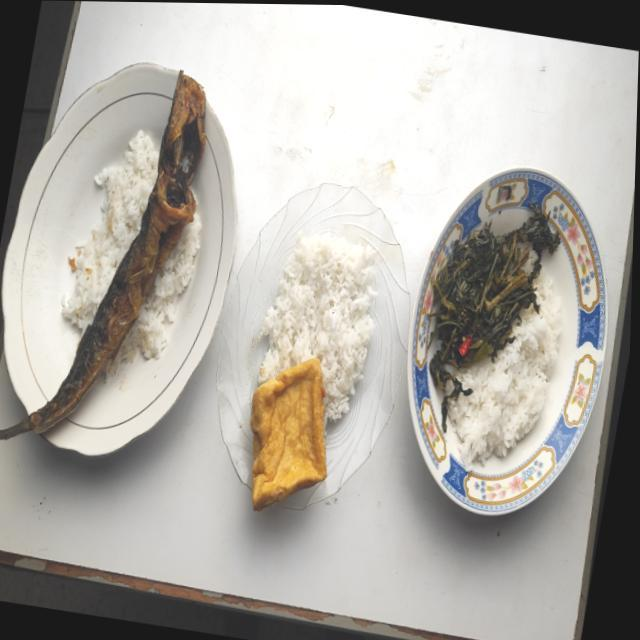nasi_putih: (258, 233, 376, 422), (448, 278, 562, 462), (61, 135, 158, 334), (106, 214, 202, 382)
tahu_goreng: (250, 358, 327, 511)
tumis_kangkung: (426, 208, 560, 427)
